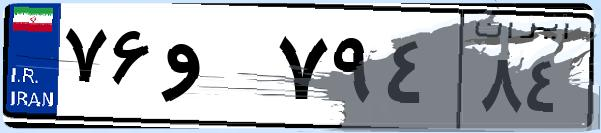4: (385, 28, 445, 110), (525, 38, 570, 115)
6: (110, 28, 158, 98)
7: (270, 28, 330, 110), (57, 26, 110, 100)
8: (475, 38, 525, 113)
9: (330, 28, 385, 110)
و: (158, 20, 270, 120)
